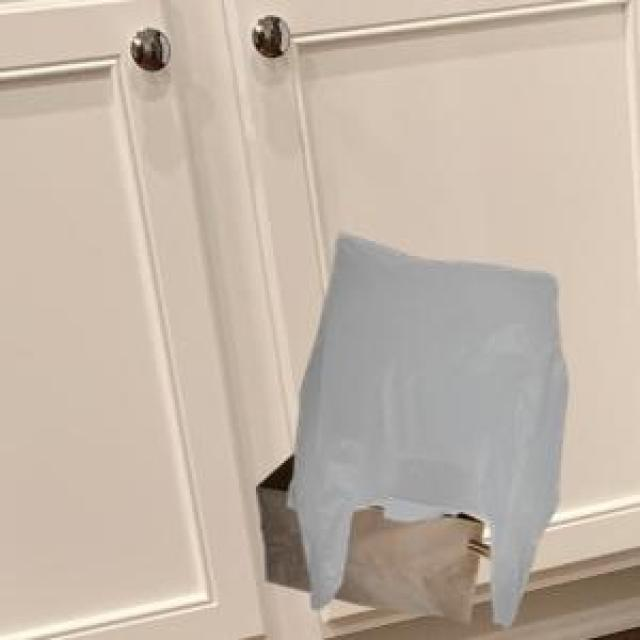paper: (252, 459, 486, 619)
